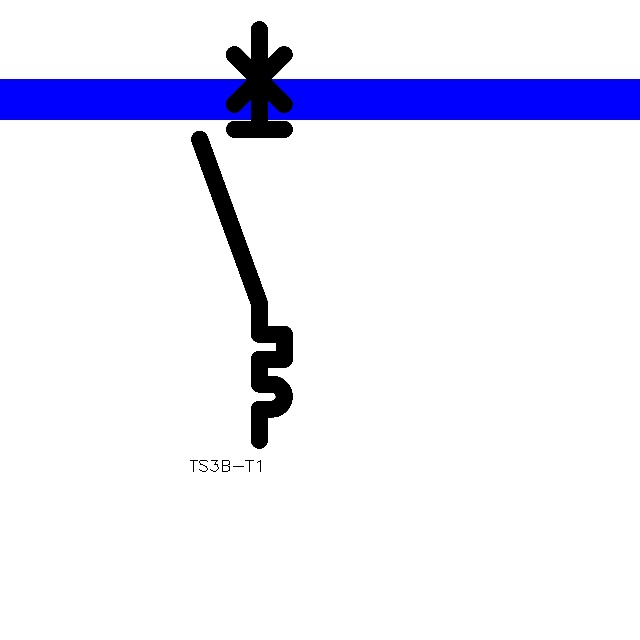interruptor_termomagnetico: (189, 19, 295, 451)
